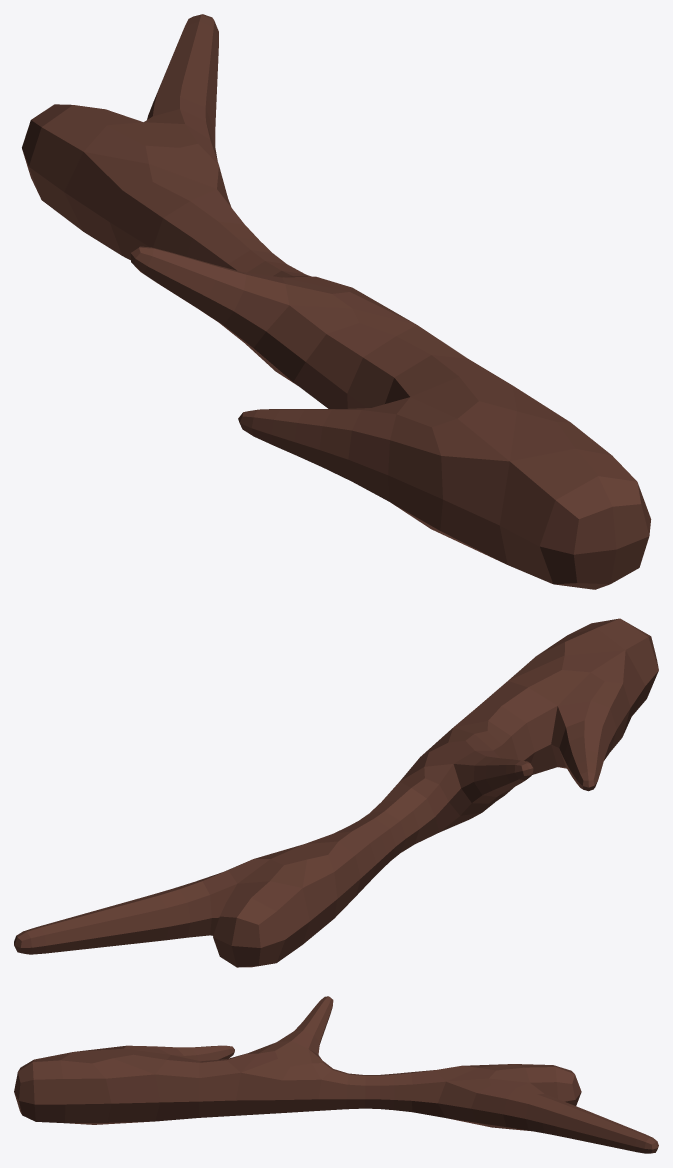
The model's file is Trunk1.fbx.
The picture shows the model from 3 angles, top to bottom: view 1: azimuth 30°, elevation 25°; view 2: azimuth 150°, elevation 25°; view 3: azimuth 270°, elevation 25°; orthographic projection. The views are drawn at different scales.
Parts seen in each view (by area): view 1: Plane; view 2: Plane; view 3: Plane.
Part boxes in pixels (x1,y1,x2,y2): Plane: (22, 14, 651, 589); Plane: (14, 618, 658, 967); Plane: (14, 996, 658, 1153).
Bounding box in the file's own units: 204 × 81.76 × 560.
